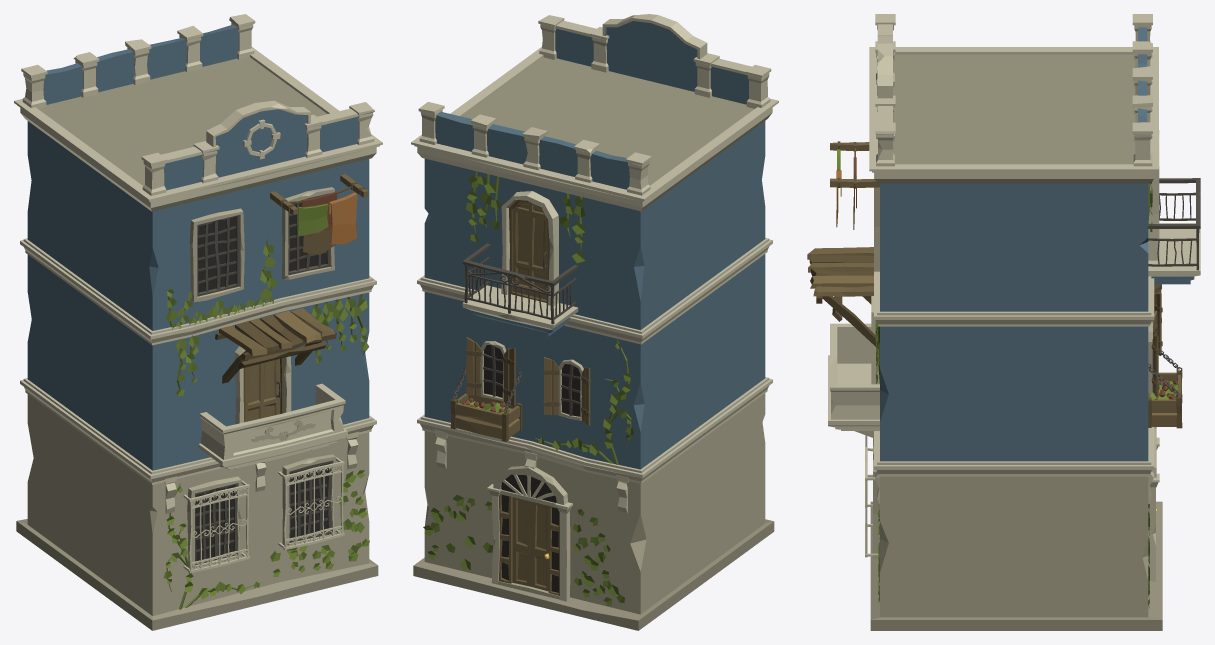
Rendered from Building_13.fbx.
The picture shows the model from 3 angles, left to right: view 1: azimuth 30°, elevation 25°; view 2: azimuth 150°, elevation 25°; view 3: azimuth 270°, elevation 25°; orthographic projection. The views are drawn at different scales.
Parts seen in each view (by area): view 1: Building_13; view 2: Building_13; view 3: Building_13.
Boxes of the visible parts, x1,y1,x2,y2 form: Building_13: (14, 14, 382, 630); Building_13: (411, 14, 778, 630); Building_13: (807, 14, 1200, 630).
Size of the model in its own units: 594 by 1195 by 807.
